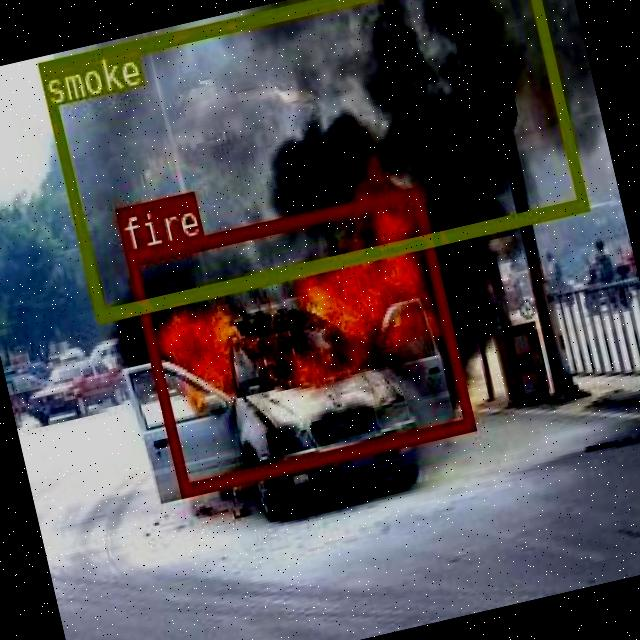fire: (124, 186, 473, 494)
smoke: (36, 0, 587, 320)
